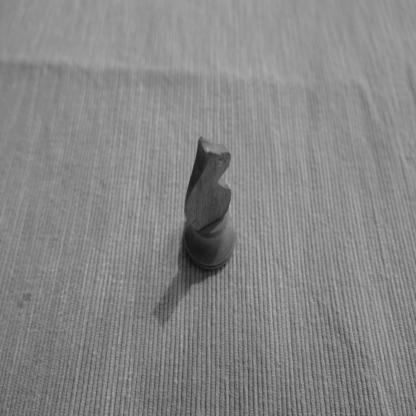white-knight: (183, 135, 237, 273)
